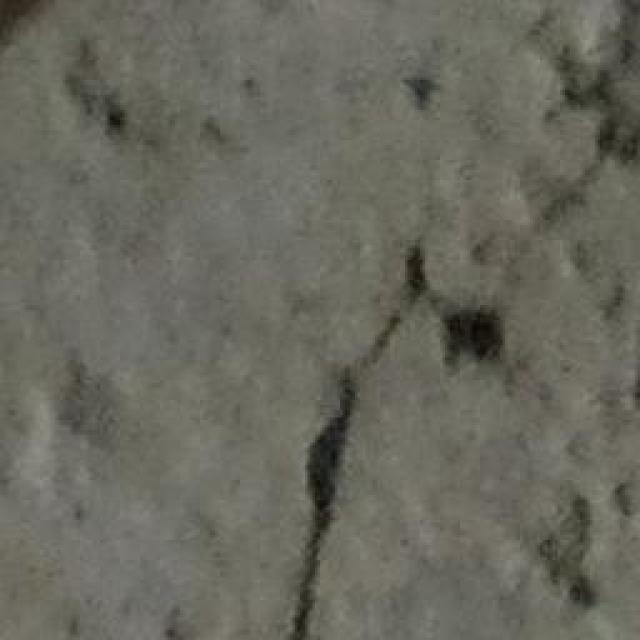Diagonal: (280, 0, 618, 640)
Rippled: (0, 0, 274, 640)
